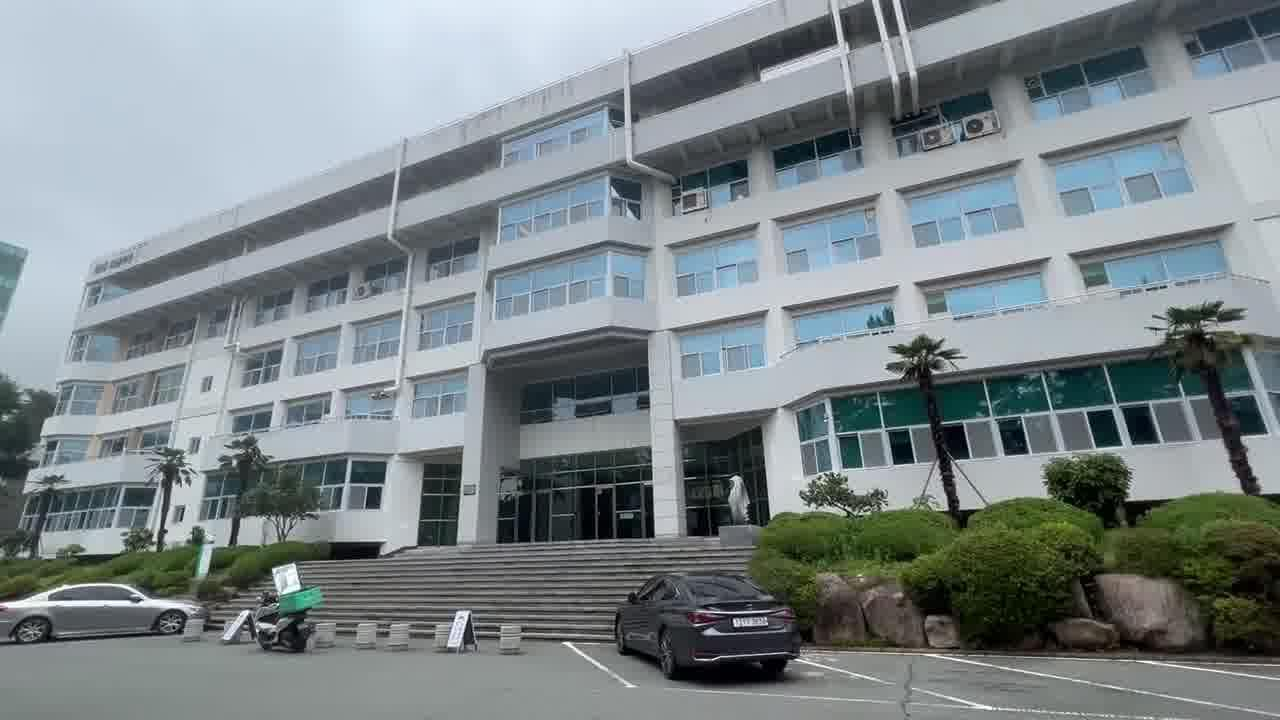building: (32, 59, 1241, 493)
